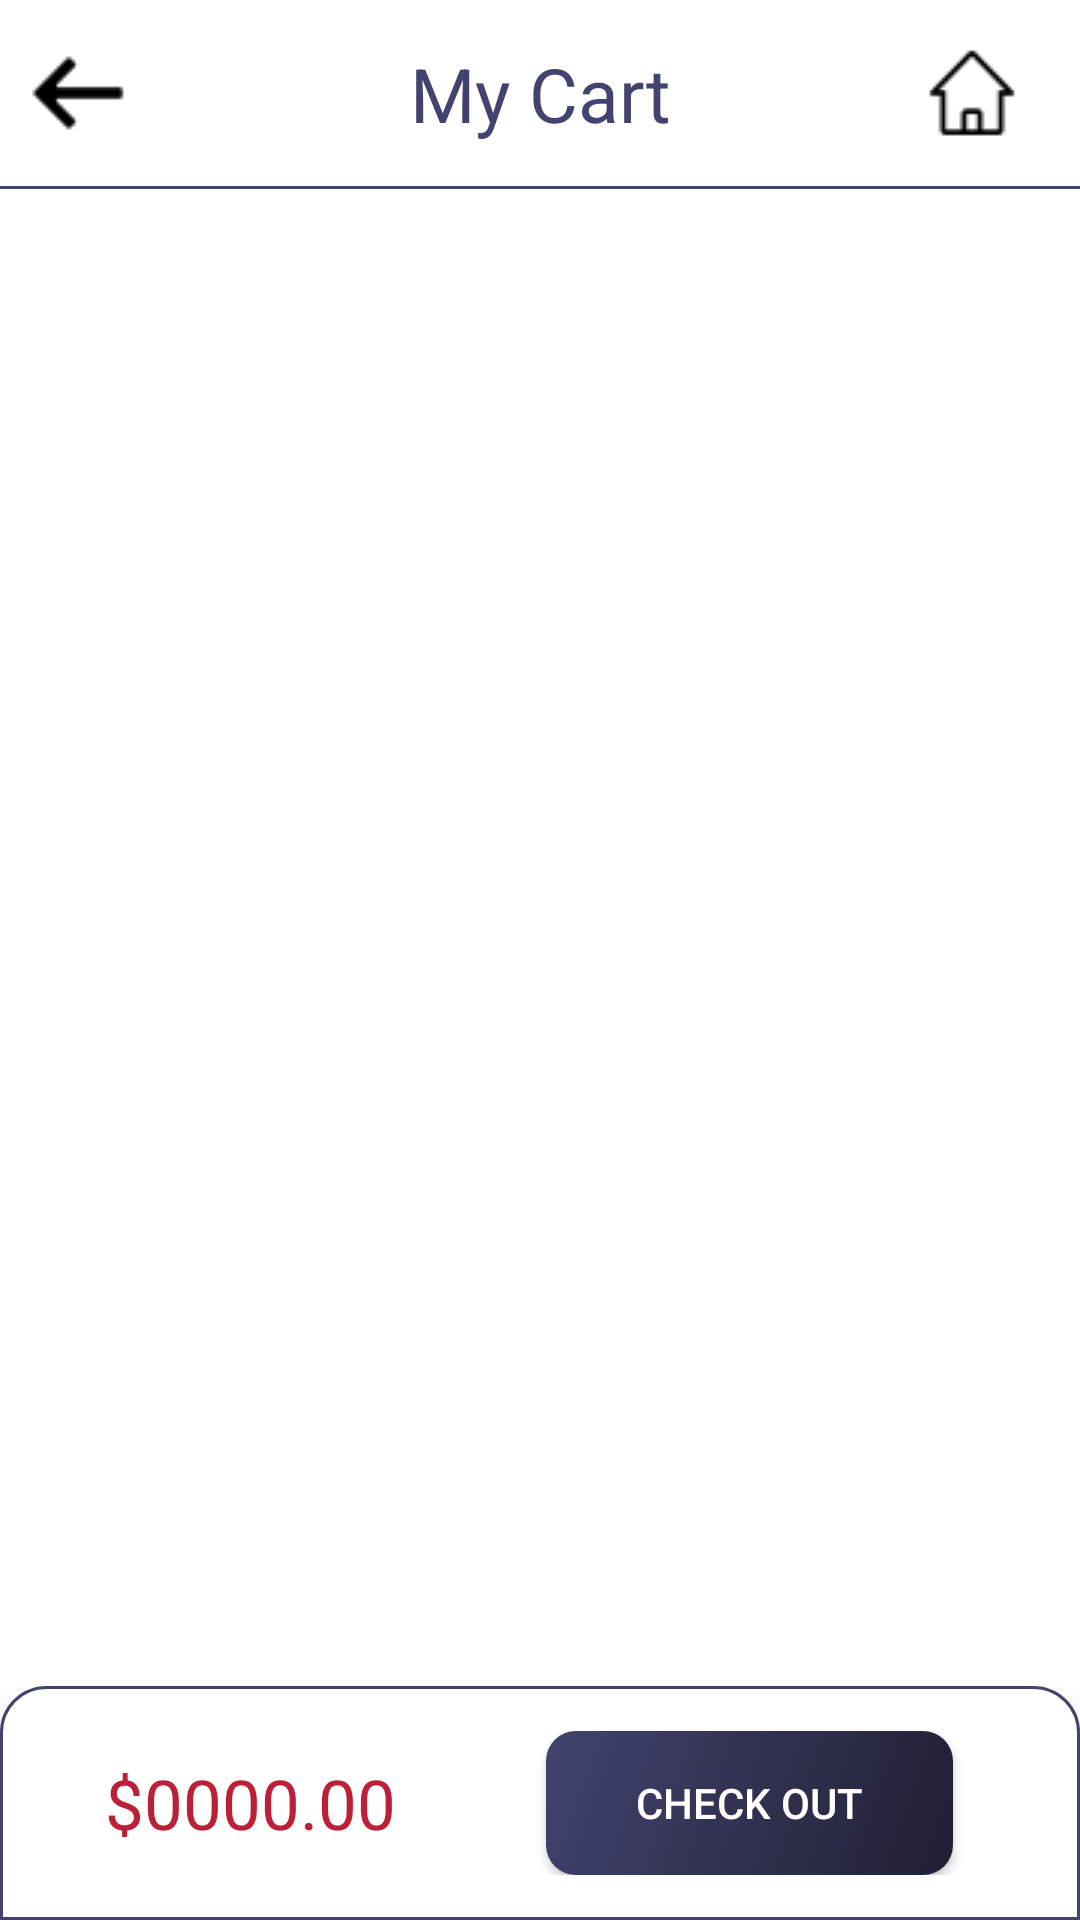

Screen size 1080×1920. Icon name, then its box in pixels as bbox(x1, y1, x2, y2):
back: bbox(32, 56, 124, 130)
homep: bbox(929, 50, 1015, 136)
